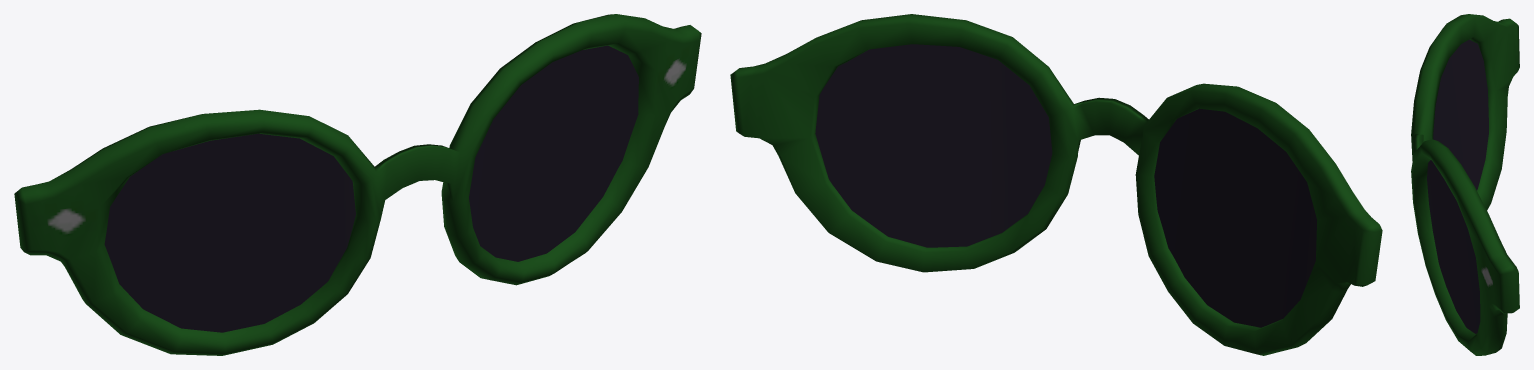
The model's file is AccessoryGlassBoston1.glb.
The picture shows the model from 3 angles, left to right: view 1: azimuth 30°, elevation 25°; view 2: azimuth 150°, elevation 25°; view 3: azimuth 270°, elevation 25°; orthographic projection. The views are drawn at different scales.
Visible parts, largest first — view 1: AccessoryAlpha__AccessoryGlassBostonBlackHigh_mAccessory; view 2: AccessoryAlpha__AccessoryGlassBostonBlackHigh_mAccessory; view 3: AccessoryAlpha__AccessoryGlassBostonBlackHigh_mAccessory.
Part boxes in pixels (x1,y1,x2,y2): AccessoryAlpha__AccessoryGlassBostonBlackHigh_mAccessory: (14, 14, 701, 355); AccessoryAlpha__AccessoryGlassBostonBlackHigh_mAccessory: (730, 14, 1382, 355); AccessoryAlpha__AccessoryGlassBostonBlackHigh_mAccessory: (1411, 14, 1519, 355).
Size of the model in its own units: 6.82 by 2.42 by 1.24.
1 material, 1 textured.
